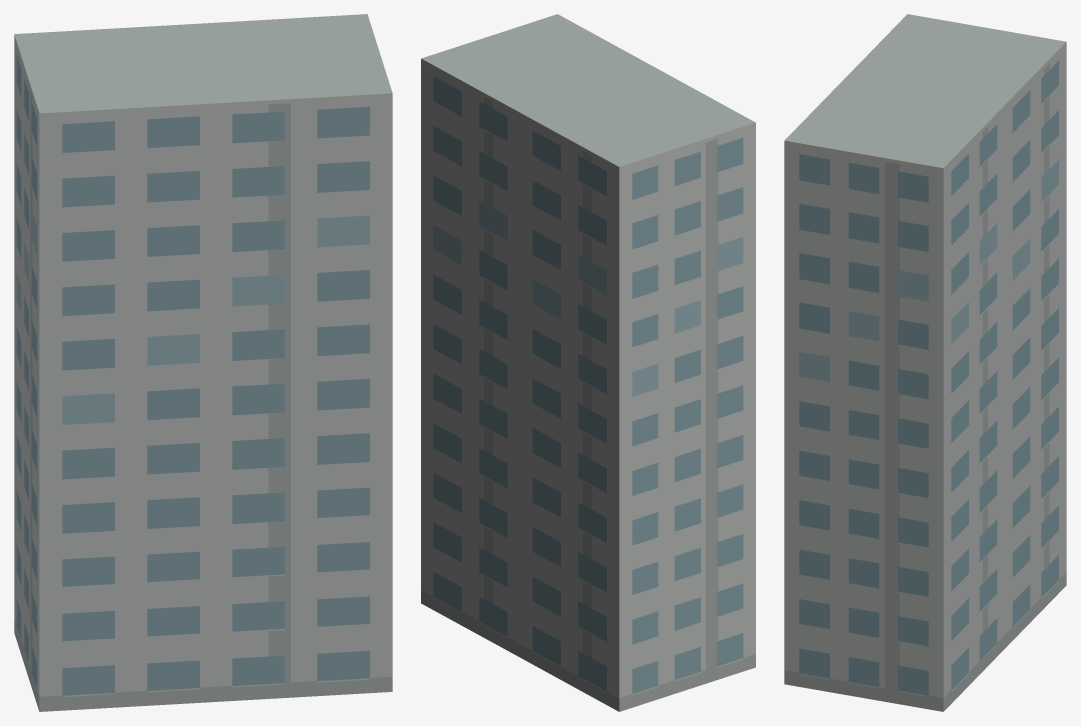
The model's file is residential-2a24f688-1c45-4e33-919f-f80b88cc91e2.glb.
The picture shows the model from 3 angles, left to right: view 1: azimuth 30°, elevation 25°; view 2: azimuth 150°, elevation 25°; view 3: azimuth 270°, elevation 25°; orthographic projection. The views are drawn at different scales.
Visible parts, largest first — view 1: residential-2a24f688-1c45-4e33-919f-f80b88cc91e2.tmp; view 2: residential-2a24f688-1c45-4e33-919f-f80b88cc91e2.tmp; view 3: residential-2a24f688-1c45-4e33-919f-f80b88cc91e2.tmp.
Part boxes in pixels (box(x1,y1,x2,y2)): residential-2a24f688-1c45-4e33-919f-f80b88cc91e2.tmp: box(14, 14, 392, 711); residential-2a24f688-1c45-4e33-919f-f80b88cc91e2.tmp: box(421, 14, 755, 711); residential-2a24f688-1c45-4e33-919f-f80b88cc91e2.tmp: box(784, 14, 1066, 711).
Size of the model in its own units: 21.3 by 35 by 16.48.
